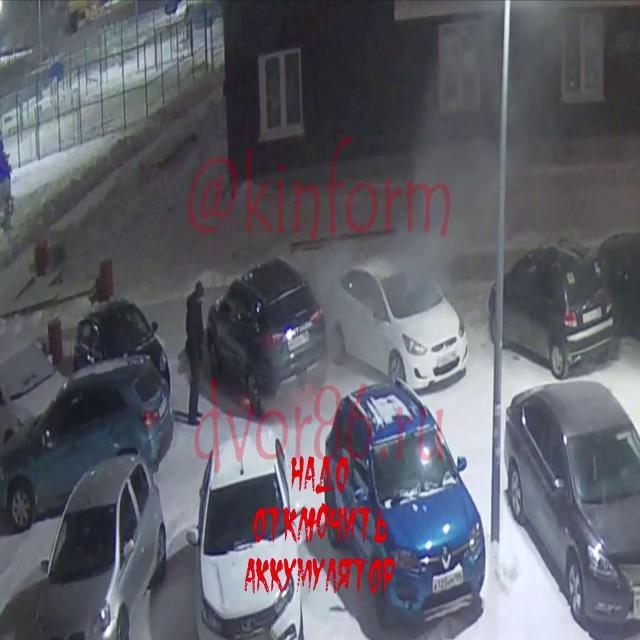Smoke: (363, 0, 639, 344)
